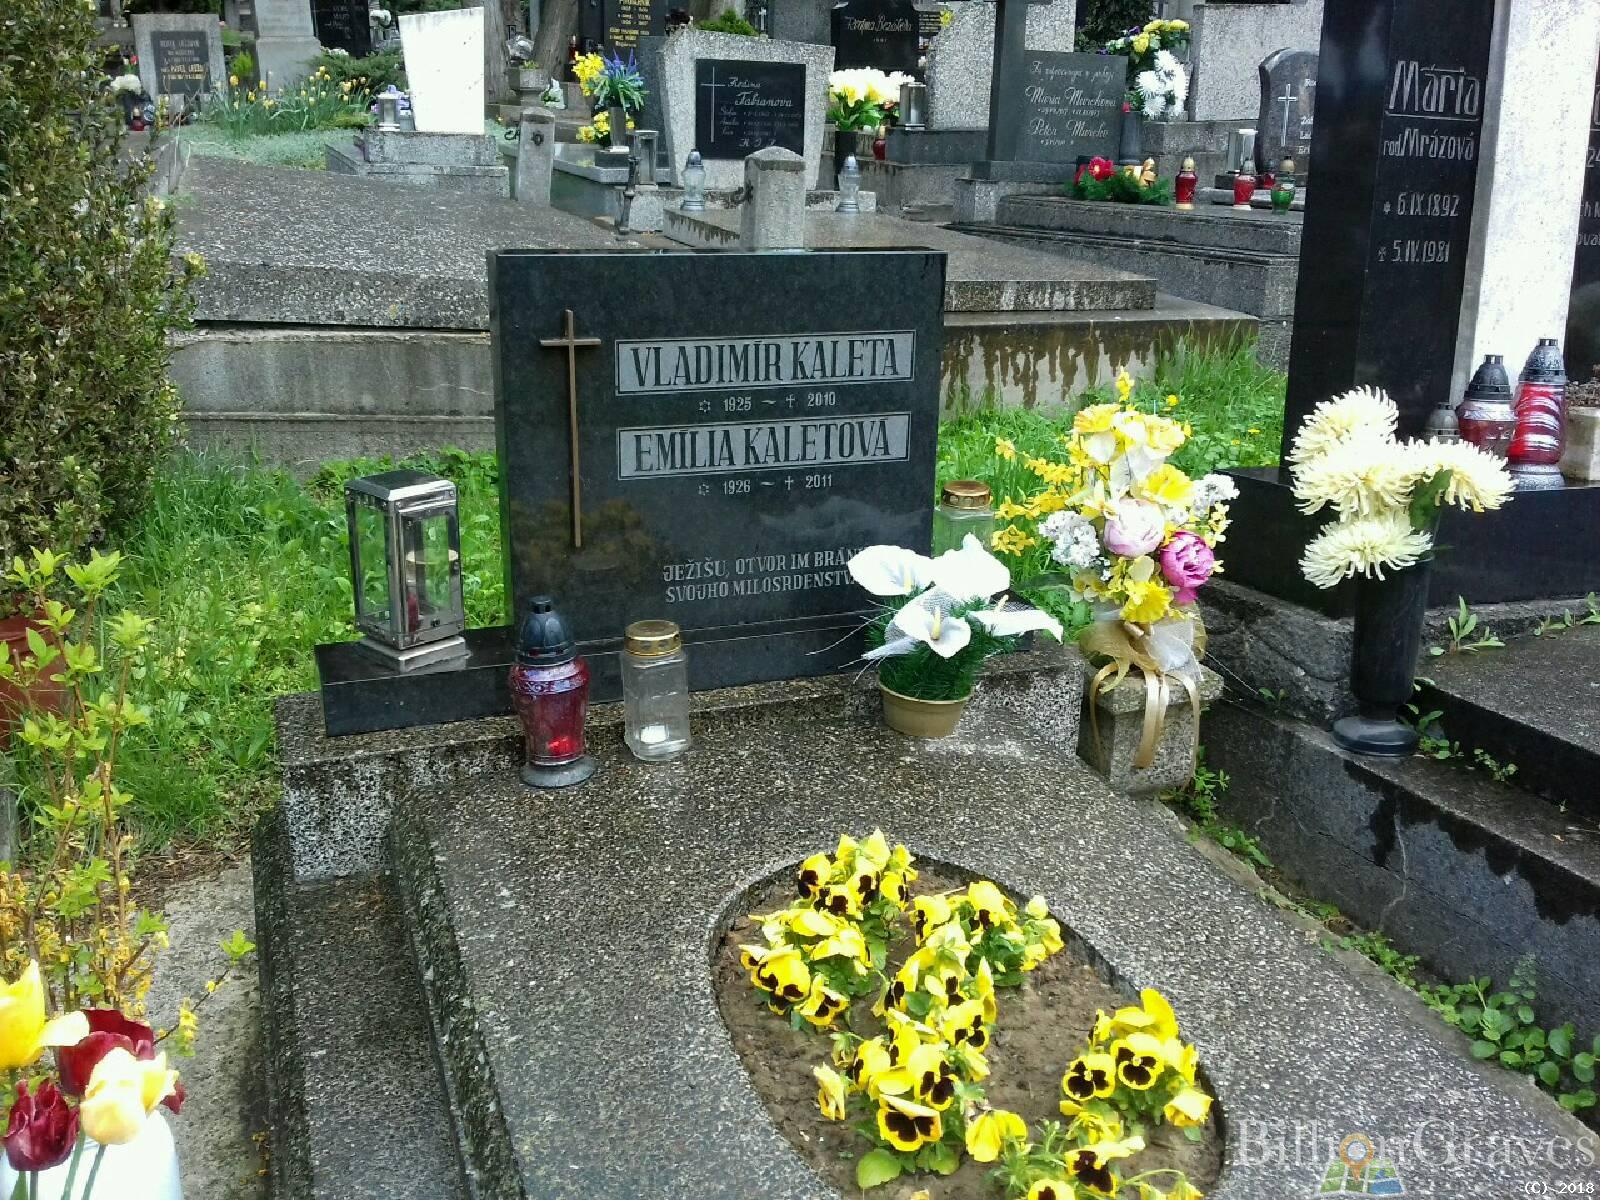vault: (168, 190, 1547, 1116)
